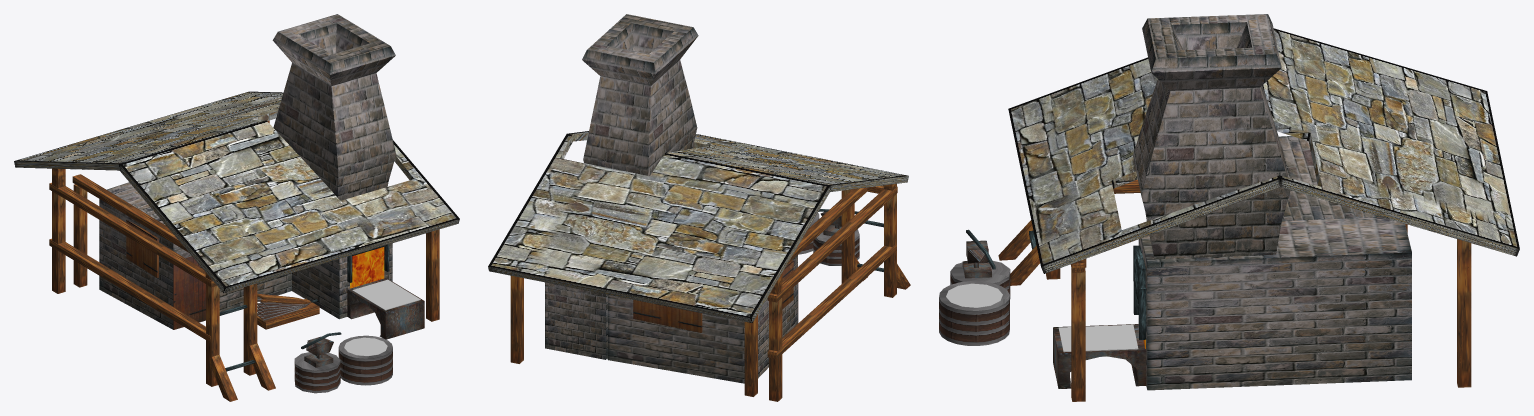
The model's file is BlacksmithsShop.FBX.
3 views of the same model, side by side, from view 1: azimuth 30°, elevation 25°; view 2: azimuth 150°, elevation 25°; view 3: azimuth 270°, elevation 25° (orthographic). The views are drawn at different scales.
Parts seen in each view (by area): view 1: Box043, Box034, Box042, Box002, Box001, Box030, Box008, Box026, Cylinder004, Box003, Box029, Cylinder001 (+12 smaller); view 2: Box042, Box034, Box002, Box043, Box001, Box030, Box026, Box057, Box027, Box041, Box023, Box029 (+3 smaller); view 3: Box001, Box042, Box034, Box043, Cylinder004, Box002, Box041, Box008, Box021, Box009, Cylinder005, Cylinder001 (+3 smaller).
Boxes of the visible parts, left/top/right/bottom form: Box043: left=119, top=120, right=459, bottom=293; Box034: left=272, top=14, right=396, bottom=200; Box042: left=14, top=91, right=283, bottom=170; Box002: left=99, top=182, right=291, bottom=329; Box001: left=292, top=243, right=392, bottom=319; Box030: left=49, top=238, right=210, bottom=342; Box008: left=347, top=278, right=424, bottom=339; Box026: left=49, top=182, right=210, bottom=283; Cylinder004: left=338, top=335, right=392, bottom=385; Box003: left=173, top=256, right=205, bottom=329; Box029: left=72, top=174, right=188, bottom=252; Cylinder001: left=294, top=352, right=340, bottom=393; Box042: left=488, top=134, right=830, bottom=322; Box034: left=582, top=14, right=698, bottom=175; Box002: left=607, top=255, right=797, bottom=383; Box043: left=567, top=131, right=908, bottom=191; Box001: left=545, top=282, right=607, bottom=359; Box030: left=767, top=244, right=896, bottom=358; Box026: left=767, top=187, right=896, bottom=302; Box057: left=633, top=300, right=702, bottom=332; Box027: left=769, top=298, right=782, bottom=401; Box041: left=510, top=275, right=523, bottom=363; Box023: left=884, top=194, right=896, bottom=297; Box029: left=788, top=187, right=867, bottom=262; Box001: left=1138, top=217, right=1411, bottom=390; Box042: left=1262, top=28, right=1519, bottom=256; Box034: left=1133, top=14, right=1290, bottom=259; Box043: left=1008, top=57, right=1282, bottom=273; Cylinder004: left=939, top=281, right=1009, bottom=345; Box002: left=1279, top=136, right=1381, bottom=220; Box041: left=1457, top=239, right=1471, bottom=387; Box008: left=1053, top=324, right=1146, bottom=388; Box021: left=1071, top=268, right=1085, bottom=401; Box009: left=1058, top=324, right=1138, bottom=356; Cylinder005: left=946, top=283, right=1002, bottom=307; Cylinder001: left=950, top=260, right=1010, bottom=298.
Bounding box in the file's own units: 3246 × 2908 × 4535.
